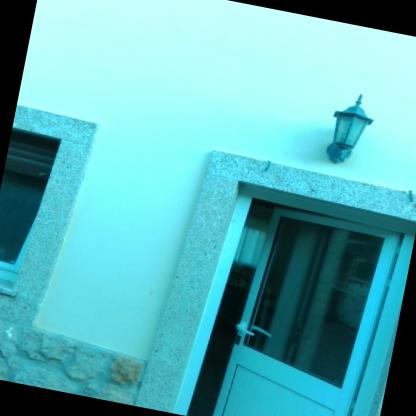semi: (160, 151, 415, 415)
